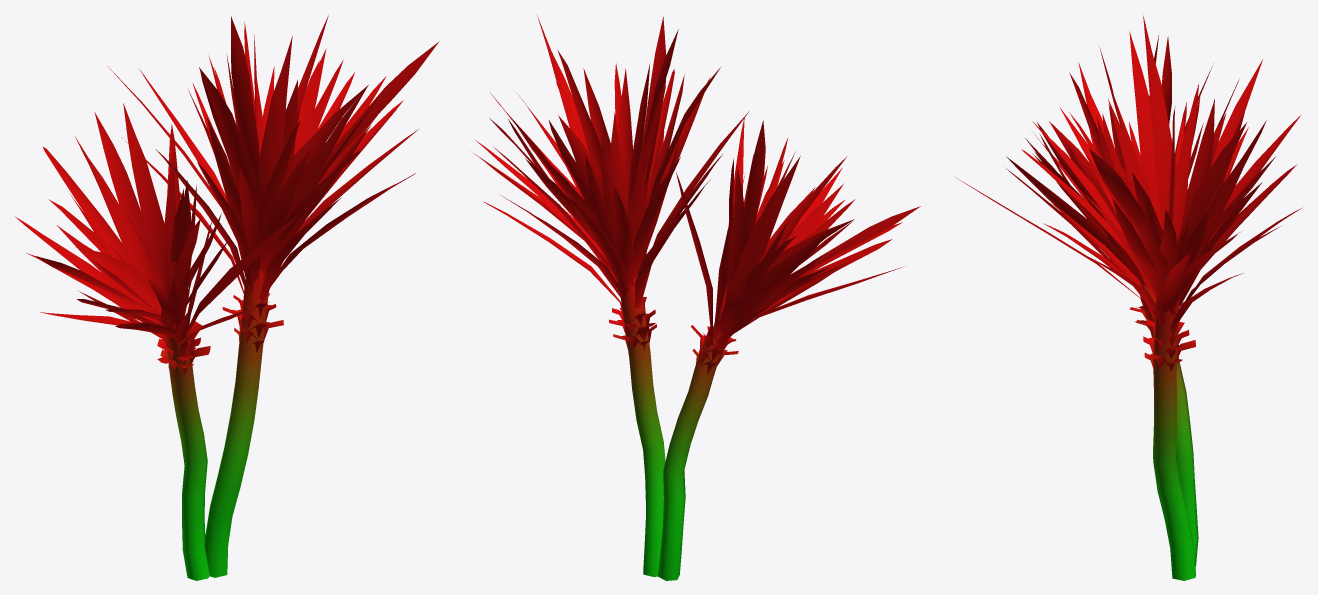
File: Var7_LOD4.fbx
3 views of the same model, side by side, from view 1: azimuth 30°, elevation 25°; view 2: azimuth 150°, elevation 25°; view 3: azimuth 270°, elevation 25° (orthographic). The views are drawn at different scales.
Parts seen in each view (by area): view 1: _cqew_Var7_LOD4; view 2: _cqew_Var7_LOD4; view 3: _cqew_Var7_LOD4.
Boxes of the visible parts, x1,y1,x2,y2 form: _cqew_Var7_LOD4: [15, 15, 439, 580]; _cqew_Var7_LOD4: [473, 15, 920, 580]; _cqew_Var7_LOD4: [955, 16, 1301, 580].
Bounding box in the file's own units: 72.28 × 93.02 × 53.26.
